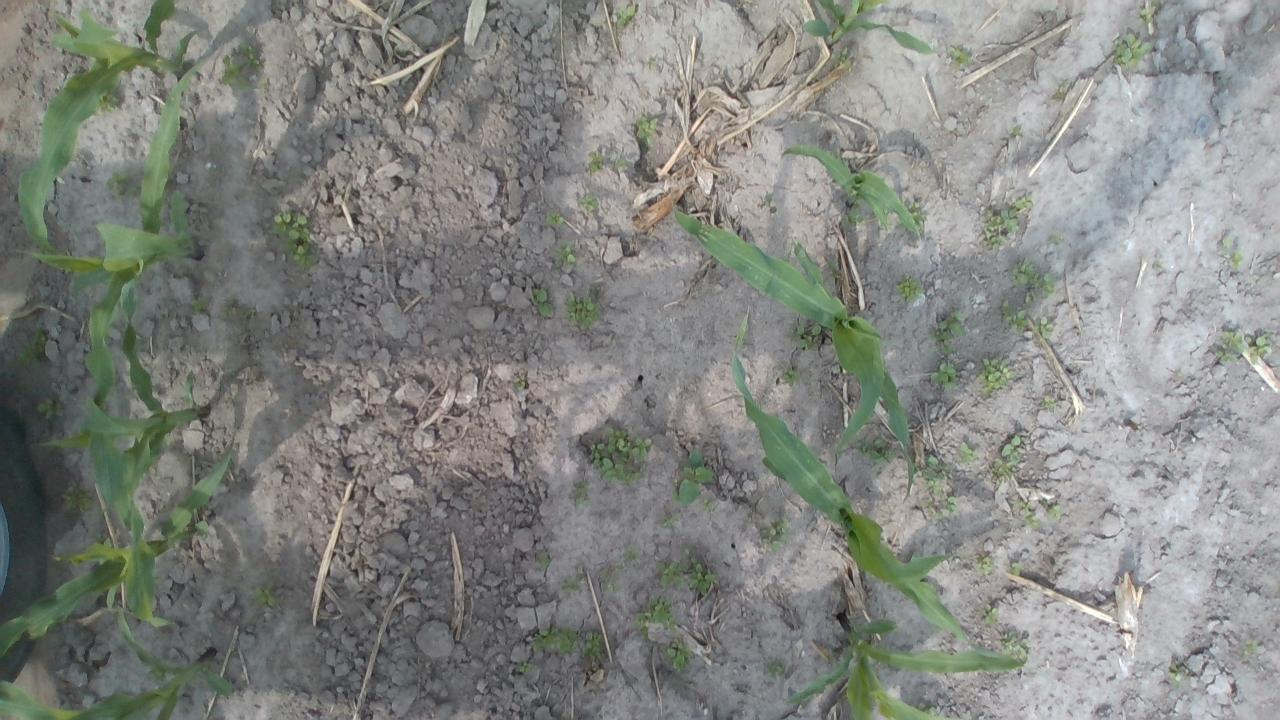Maize: (730, 307, 1017, 660), (27, 47, 224, 453), (670, 204, 914, 502), (37, 264, 213, 631), (0, 432, 235, 658), (14, 0, 206, 252), (784, 611, 1022, 720), (0, 609, 233, 720), (781, 146, 924, 242), (800, 0, 936, 58)
Weeds: (588, 426, 652, 482), (271, 211, 316, 270), (984, 196, 1033, 249), (678, 448, 716, 507), (633, 594, 682, 636), (1012, 258, 1056, 304), (1208, 330, 1253, 365), (1112, 33, 1152, 70), (530, 627, 580, 655), (978, 358, 1014, 395), (16, 327, 50, 366), (568, 292, 602, 329), (659, 639, 695, 672), (923, 456, 953, 494), (689, 558, 718, 596), (856, 439, 897, 465), (762, 516, 792, 550), (220, 56, 250, 90), (62, 482, 96, 512), (1001, 631, 1030, 664), (1001, 300, 1029, 334), (894, 273, 926, 302), (1221, 234, 1246, 270), (598, 562, 626, 594), (789, 324, 823, 350), (939, 310, 968, 340), (922, 496, 958, 520), (634, 116, 661, 148), (930, 360, 958, 390), (105, 172, 138, 197), (1000, 434, 1028, 463), (655, 560, 686, 586), (1248, 333, 1272, 365), (252, 581, 278, 610), (530, 288, 554, 318), (1014, 500, 1038, 528), (36, 398, 66, 420), (552, 243, 578, 268), (581, 631, 604, 659), (613, 4, 638, 28), (96, 94, 121, 116), (1168, 661, 1189, 687), (1040, 500, 1062, 524), (570, 481, 591, 506), (908, 200, 928, 226), (946, 47, 970, 68), (781, 365, 803, 387), (932, 331, 954, 353), (991, 458, 1015, 478), (978, 604, 1000, 625), (1034, 317, 1055, 339), (240, 45, 260, 68), (762, 660, 784, 680), (562, 574, 586, 592), (958, 442, 978, 463), (834, 47, 852, 69), (588, 152, 607, 172), (579, 194, 599, 212), (976, 554, 994, 574), (1138, 6, 1156, 26), (844, 210, 865, 227), (189, 298, 211, 314), (546, 211, 566, 226), (147, 664, 165, 679), (764, 194, 778, 212), (538, 551, 552, 569), (660, 515, 679, 528), (1008, 123, 1024, 138), (1053, 85, 1068, 101), (1010, 562, 1024, 578), (1244, 642, 1258, 658), (513, 374, 527, 390), (623, 549, 640, 561), (1050, 230, 1064, 244), (1043, 395, 1056, 410), (222, 304, 235, 318), (518, 662, 534, 673), (614, 158, 628, 170), (703, 500, 715, 514), (647, 58, 658, 69), (1172, 372, 1182, 380), (1148, 0, 1164, 5)
